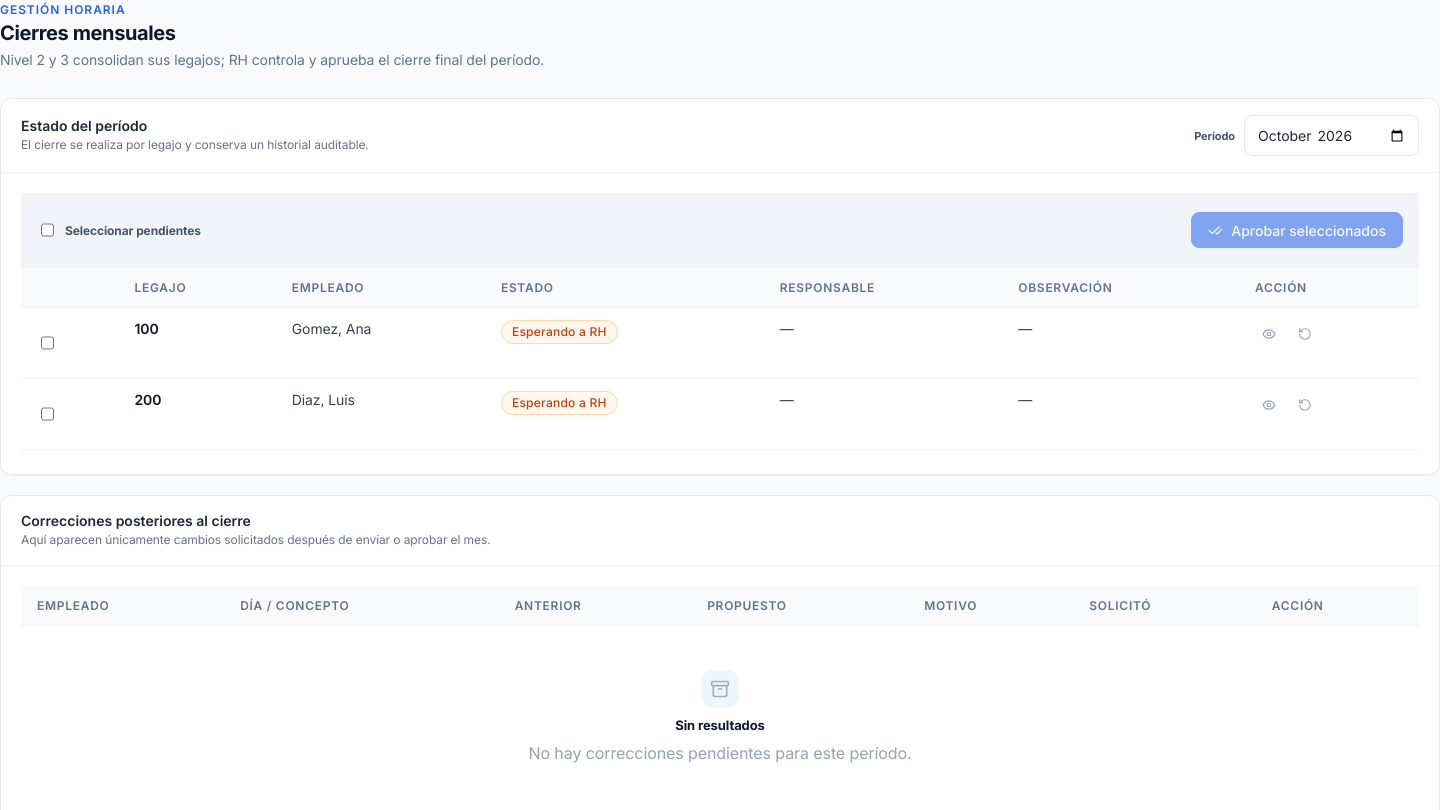
MonthlyClosuresPage — Etapa 15K (panel de revisión de horas) › al abrir la revisión carga la grilla horaria sólo para el empleado seleccionado (sin N+1)
expect the text "100" is shown: met, box x1=134 y1=320 x2=159 y2=337
expect the text "200" is shown: met, box x1=134 y1=391 x2=161 y2=408
Click the button named "Revisar horas de 100" at (1269, 334), box x1=1255 y1=320 x2=1283 y2=348
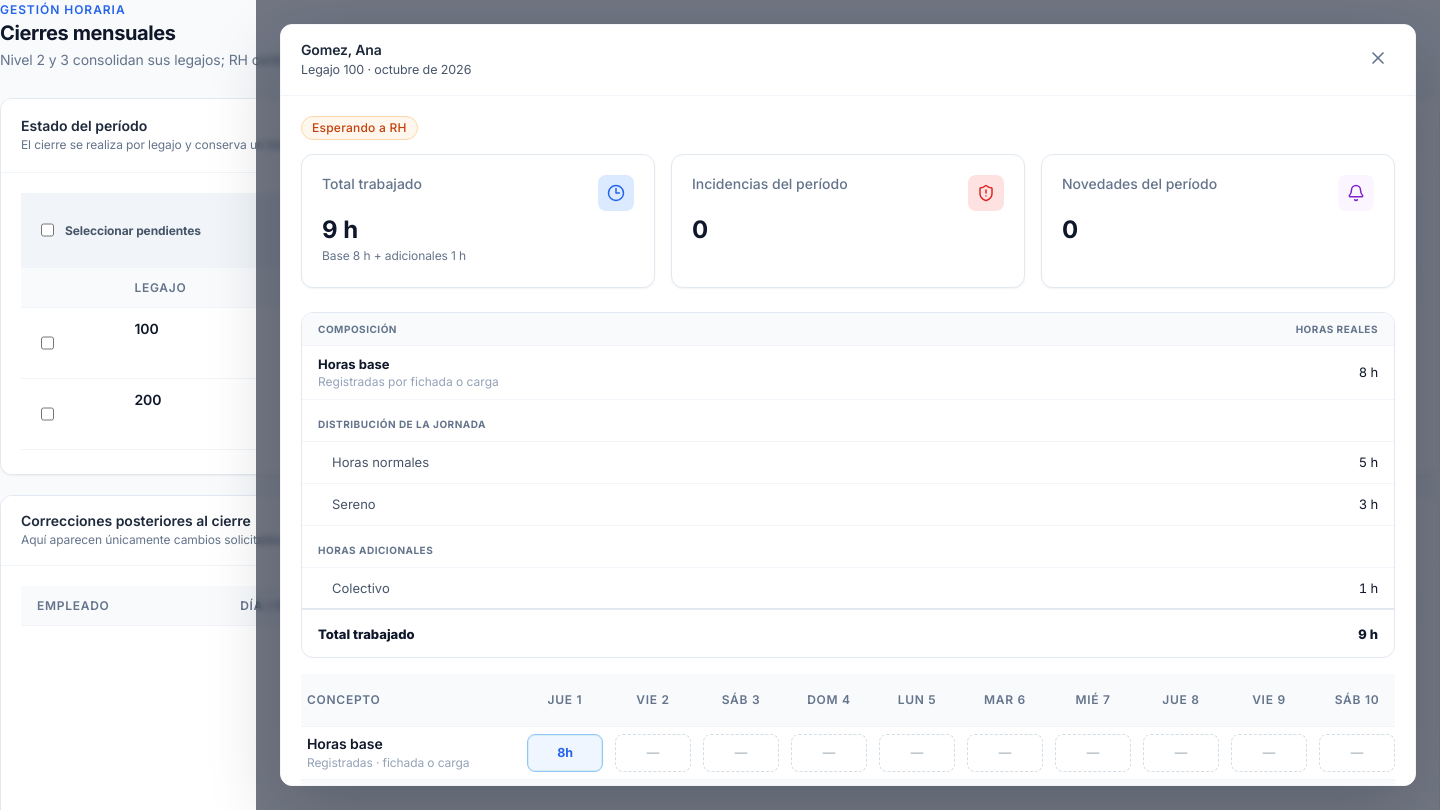
expect the column heading "Composición" is shown: met, box x1=302 y1=312 x2=1214 y2=345
